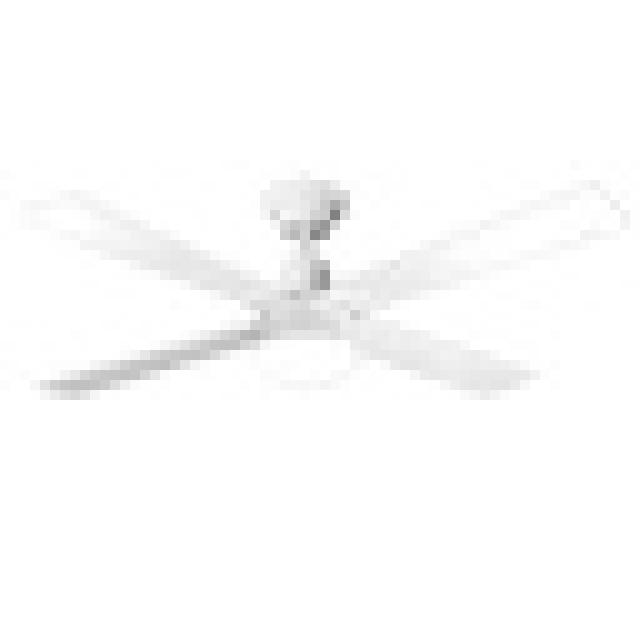Bulb: (62, 176, 625, 437)
